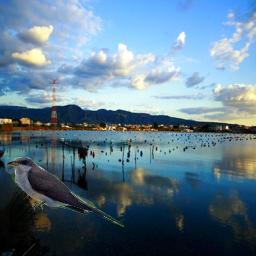Cuckoo: (5, 157, 124, 228)
